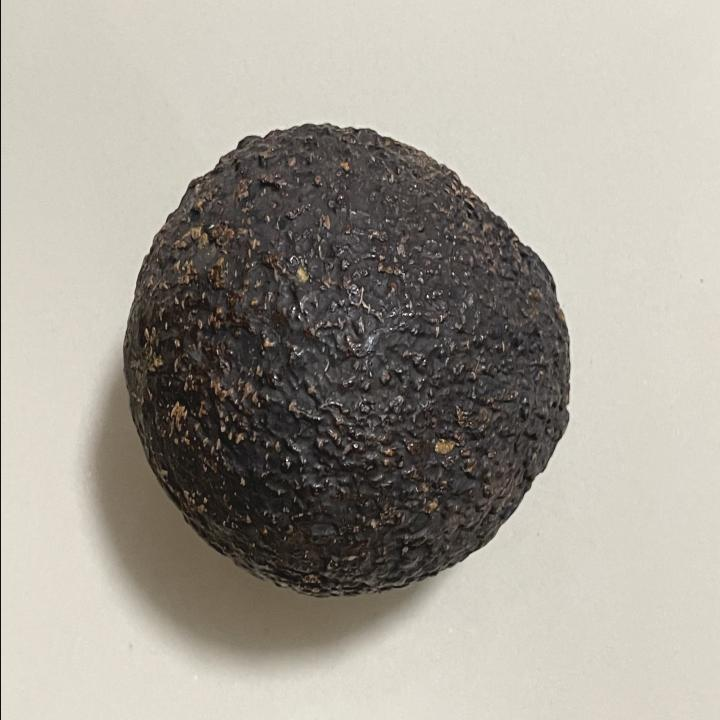Level3: (113, 110, 584, 610)
